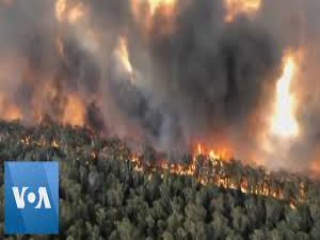fire: (164, 146, 298, 199)
smoke: (19, 9, 268, 139)
